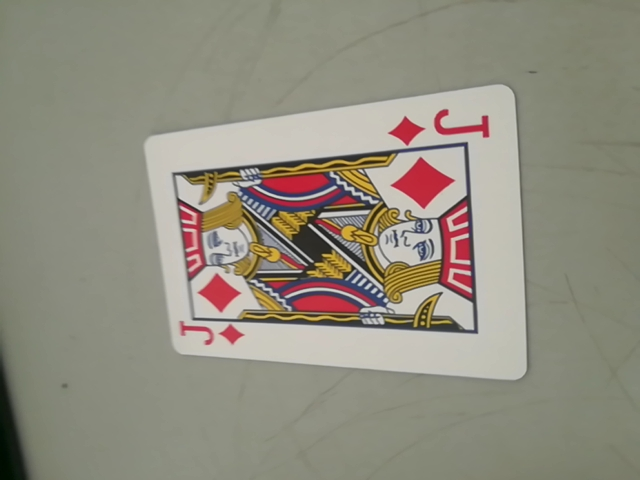fk j: (389, 104, 492, 149), (177, 319, 251, 355)
